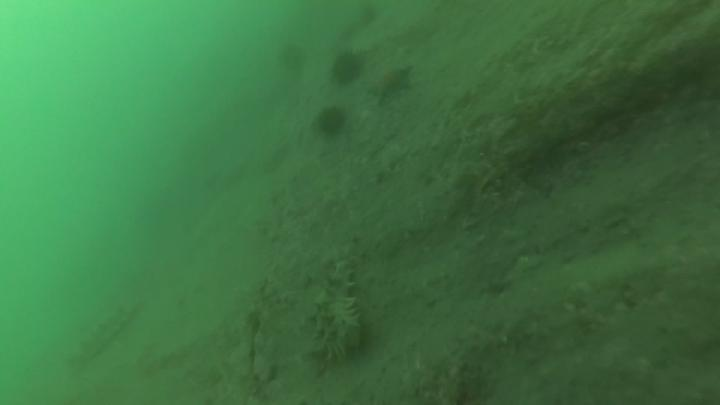echinus: (329, 50, 370, 87), (313, 105, 350, 138), (276, 41, 310, 76)
holothurian: (309, 256, 368, 366), (77, 305, 138, 366)
starfish: (366, 63, 419, 110)
